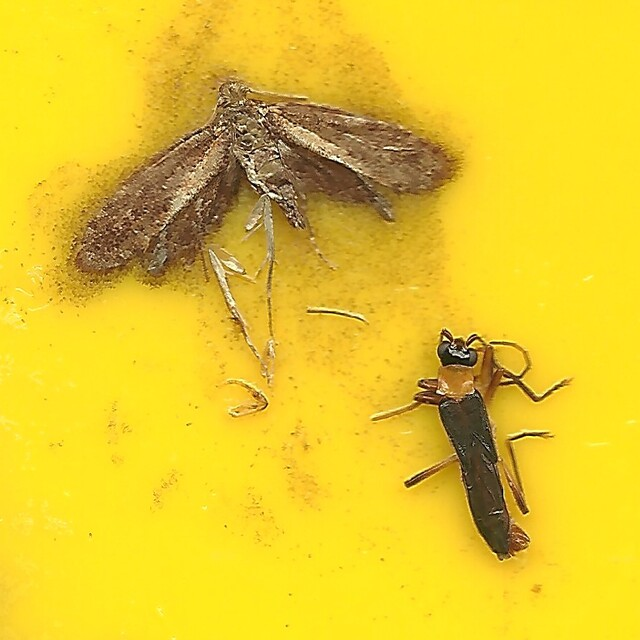Coleoptera: (415, 330, 569, 565)
Lepidoptera: (71, 75, 468, 326)
